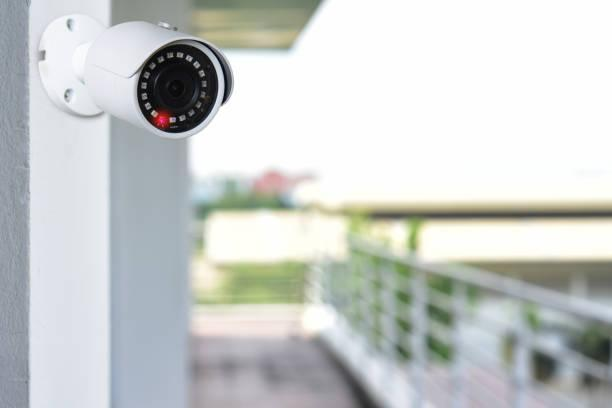camera: (61, 0, 254, 149)
